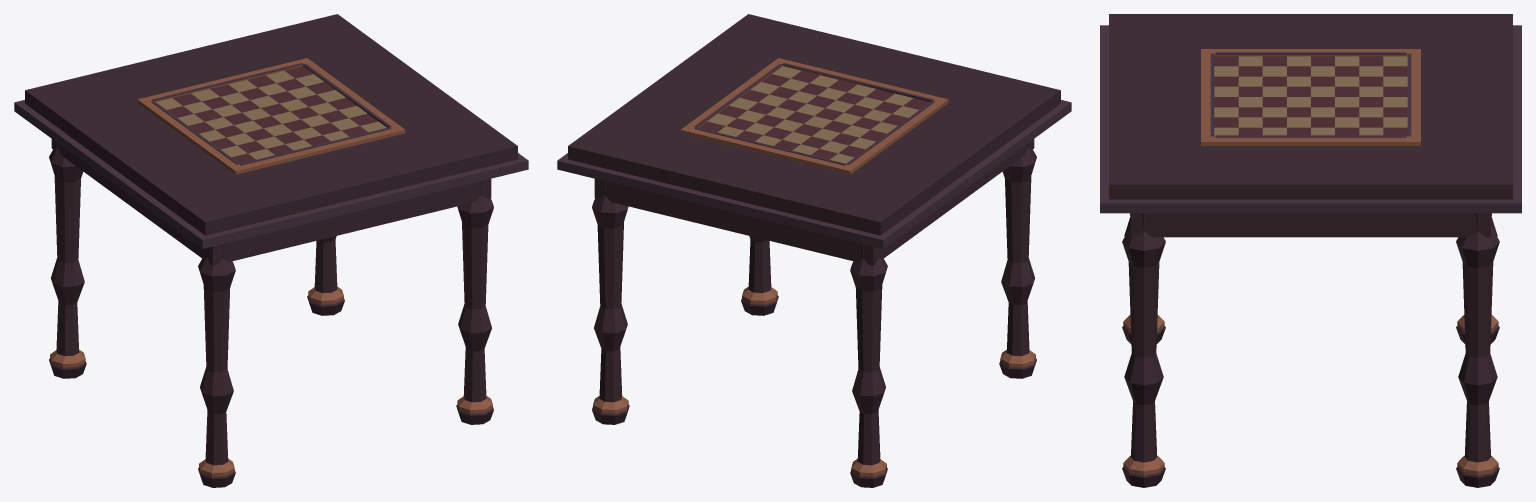
The model's file is masa_sah.glb.
3 views of the same model, side by side, from view 1: azimuth 30°, elevation 25°; view 2: azimuth 150°, elevation 25°; view 3: azimuth 270°, elevation 25° (orthographic). The views are drawn at different scales.
Parts seen in each view (by area): view 1: Masa; view 2: Masa; view 3: Masa.
Boxes of the visible parts, box(x1,y1,x2,y2) form: Masa: box(14, 14, 528, 487); Masa: box(557, 14, 1071, 487); Masa: box(1100, 14, 1521, 487).
Size of the model in its own units: 0.96 by 0.792 by 0.96.
